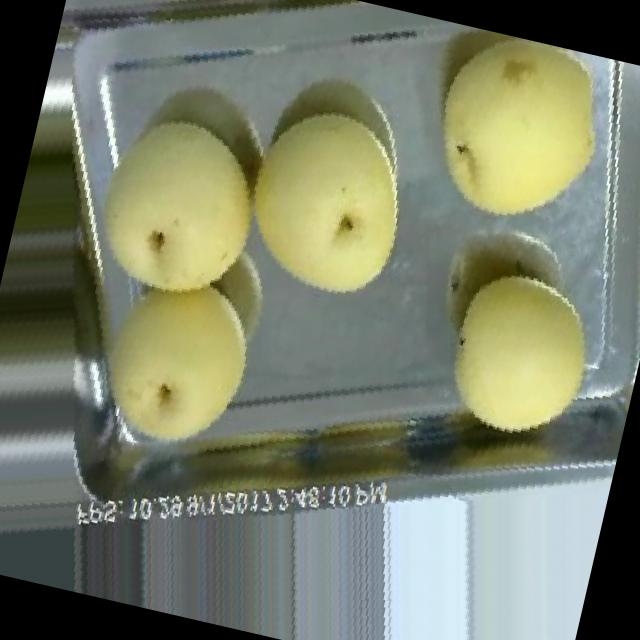Fruit: (199, 65, 456, 339), (46, 73, 300, 340), (382, 17, 636, 265), (56, 229, 292, 483), (406, 235, 632, 470)
